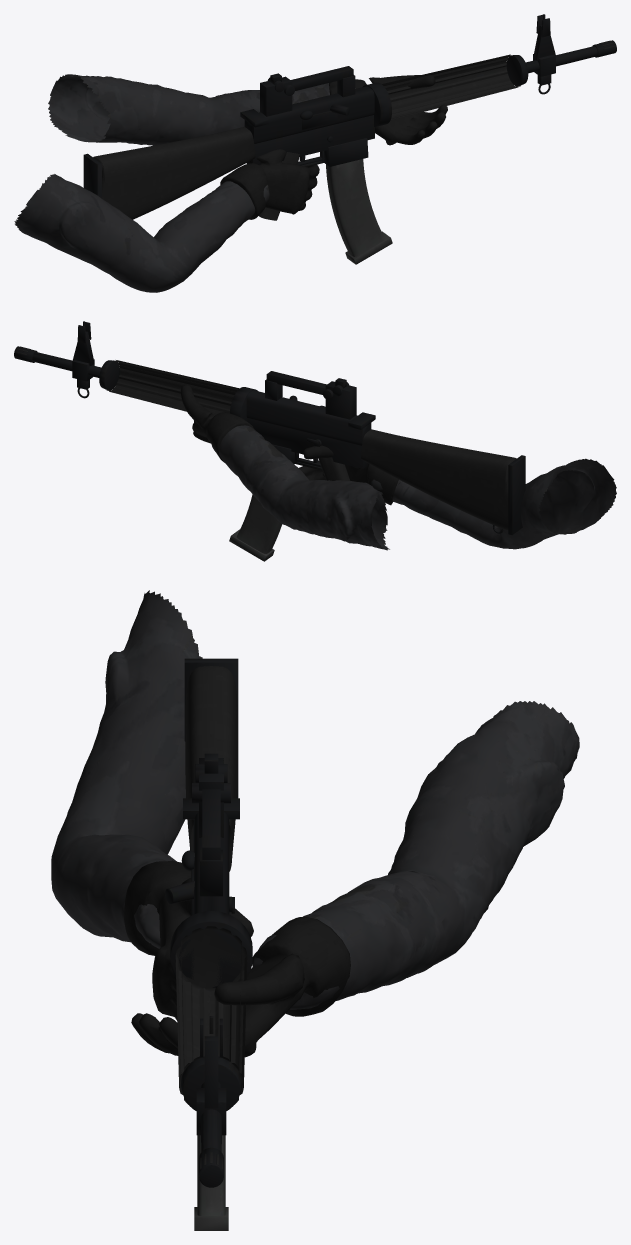
Rendered from viewmodel.glb.
3 views of the same model, one above another, from view 1: azimuth 30°, elevation 25°; view 2: azimuth 150°, elevation 25°; view 3: azimuth 270°, elevation 25° (orthographic). The views are drawn at different scales.
Parts seen in each view (by area): view 1: Rifle.001, ArmR, ArmL, Magazine; view 2: Rifle.001, ArmL, ArmR, Magazine; view 3: ArmL, ArmR, Rifle.001, Magazine.
Boxes of the visible parts, left/top/right/bottom form: Rifle.001: left=83, top=14, right=616, bottom=220; ArmR: left=14, top=149, right=319, bottom=292; ArmL: left=48, top=74, right=447, bottom=145; Magazine: left=326, top=159, right=392, bottom=264; Rifle.001: left=14, top=321, right=525, bottom=535; ArmL: left=180, top=385, right=389, bottom=550; ArmR: left=299, top=445, right=616, bottom=549; Magazine: left=229, top=494, right=281, bottom=561; ArmL: left=131, top=701, right=579, bottom=1057; ArmR: left=51, top=590, right=253, bottom=1020; Rifle.001: left=165, top=658, right=252, bottom=1187; Magazine: left=194, top=1135, right=228, bottom=1230.
Bounding box in the file's own units: 1.18 × 0.3783 × 0.4621.
Materials: 5 (5 with a texture image).
